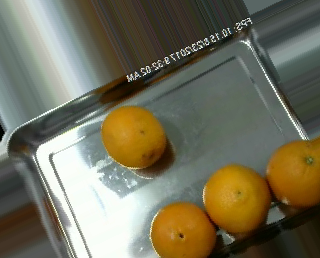Orange: (201, 164, 270, 235), (101, 105, 167, 170), (150, 201, 217, 258), (264, 139, 319, 208)
